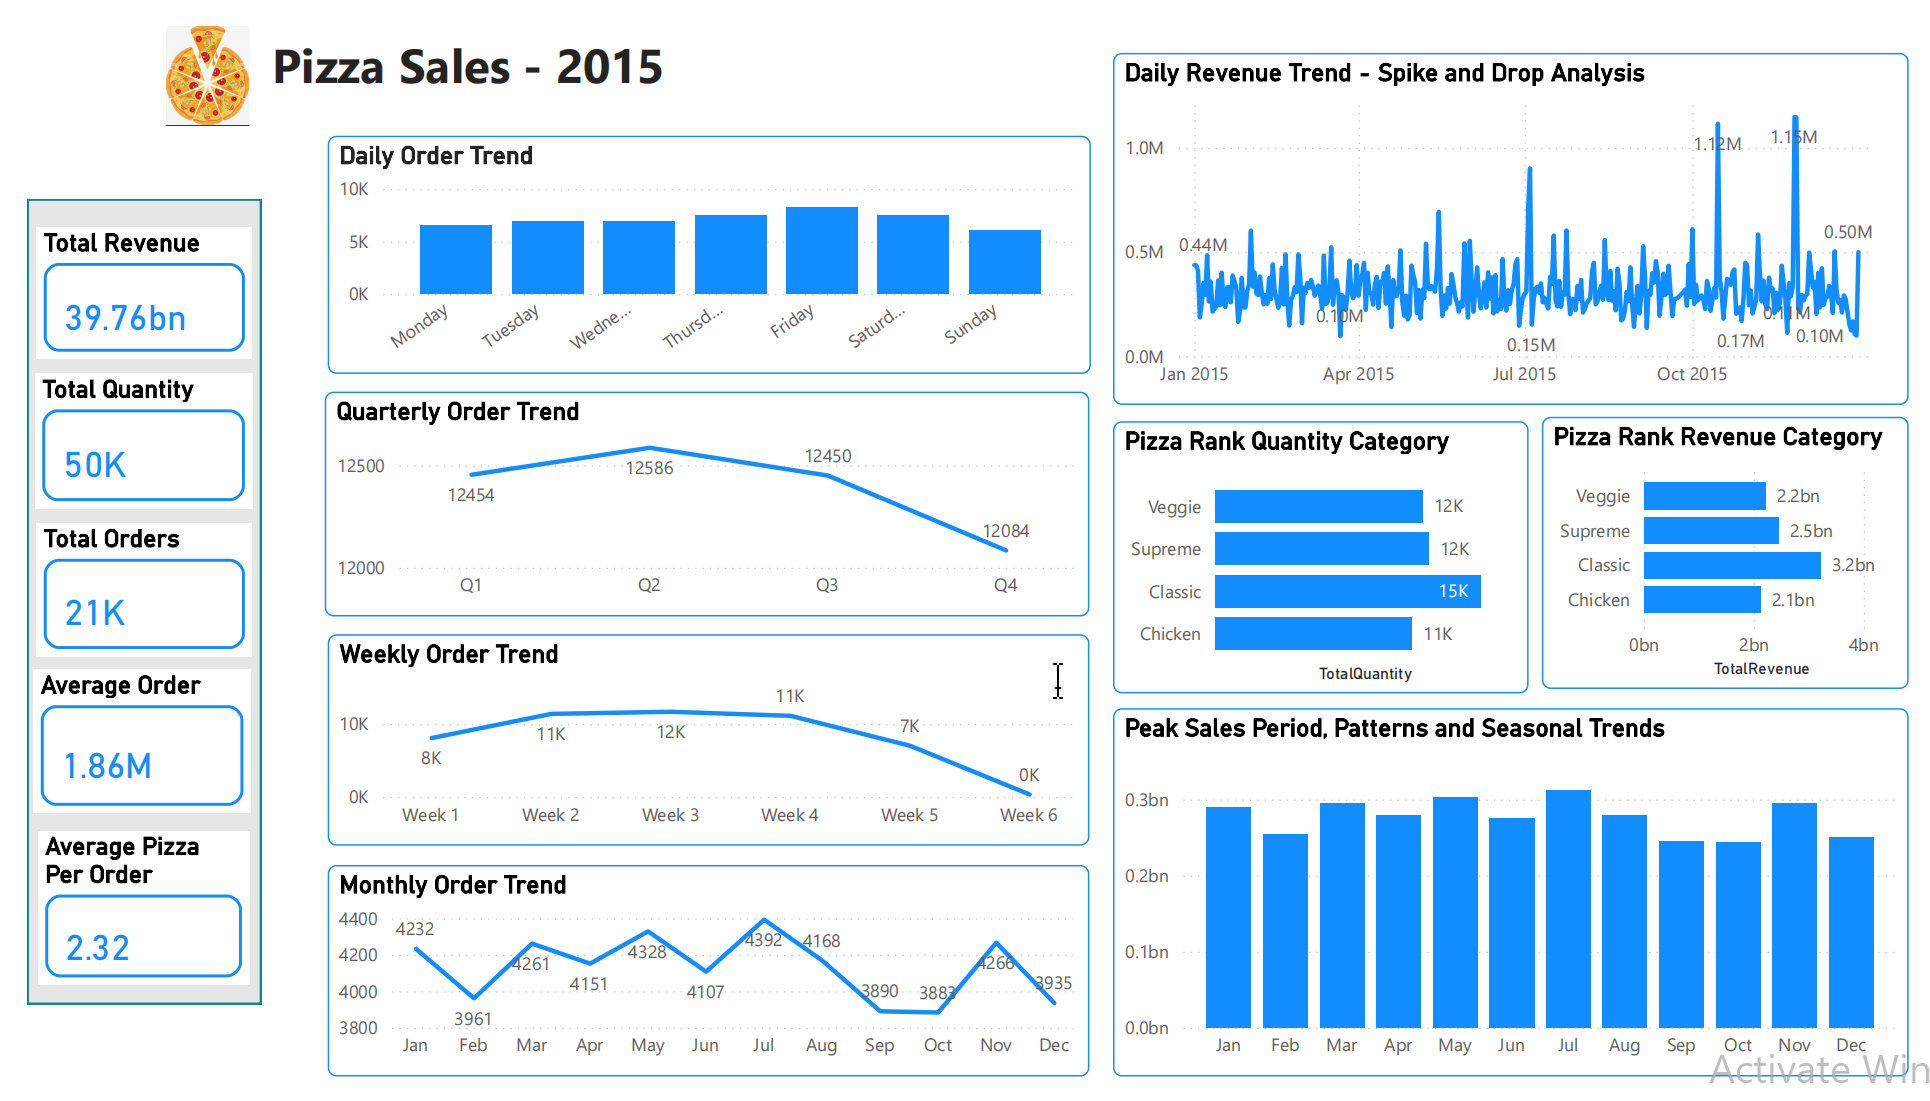

The page's visual inventory and layout, read from the dashboard file:
{"tool":"powerbi","page":{"name":"SalesTrend&Product_Dashboard","canvas":[1280,720],"ordinal":1},"visuals":[{"type":"shape","box":[0,126.5,157.8,544.6],"z":0},{"type":"cardVisual","title":"Total Revenue","fields":{"Data":["Order_Details.TotalRevenue"]},"box":[6,145.8,145.8,89.2],"z":1000},{"type":"cardVisual","title":"Total Quantity","fields":{"Data":["Order_Details.TotalQuantity"]},"box":[4.8,244.9,147,91.6],"z":2000},{"type":"cardVisual","title":"Total Orders","fields":{"Data":["Orders.TotalOrders"]},"box":[6,346.4,145.8,89.2],"z":3000},{"type":"cardVisual","title":"Average Order","fields":{"Data":["Order_Details.AvgOrdersValue"]},"box":[3.6,445.5,147,96.4],"z":4000},{"type":"cardVisual","title":"Average Pizza Per Order","fields":{"Data":["Order_Details.AvgPizzasPerOrders"]},"box":[6.8,554.1,143.2,104.1],"z":5000},{"type":"lineChart","title":"Quarterly Order Trend","fields":{"Y":["Order_Details.TotalQuantity"],"Category":["DimDateTime.Quarter"]},"box":[201.4,257.2,516.2,151.4],"z":6000},{"type":"clusteredColumnChart","title":"Peak Sales Period, Patterns and Seasonal Trends","fields":{"Y":["Order_Details.TotalRevenue"],"Category":["DimDateTime.MonthName"]},"box":[733.8,471.4,537.8,248.6],"z":7000},{"type":"lineChart","title":"Daily Revenue Trend - Spike and Drop Analysis","fields":{"Category":["Orders.date.Variation.Date Hierarchy.Day"],"Y":["Order_Details.TotalRevenue"]},"box":[733.8,28.4,537.8,237.8],"z":8000},{"type":"clusteredBarChart","title":"Pizza Rank Quantity Category","fields":{"Category":["Pizza_Types.category"],"Y":["Order_Details.TotalQuantity"]},"box":[733.8,277,281.1,183.8],"z":9000},{"type":"clusteredBarChart","title":"Pizza Rank Revenue Category","fields":{"Category":["Pizza_Types.category"],"Y":["Order_Details.TotalRevenue"]},"box":[1024.3,274.3,247.3,183.8],"z":10000},{"type":"textbox","box":[0,7.8,597.4,70.1],"z":11000},{"type":"image","box":[88.3,5.2,70.1,76.6],"z":12000},{"type":"lineChart","title":"Monthly Order Trend","fields":{"Y":["Order_Details.TotalQuantity"],"Category":["DimDateTime.MonthName"]},"box":[202.7,576.8,514.9,143.2],"z":13000},{"type":"lineChart","title":"Weekly Order Trend","fields":{"Y":["Order_Details.TotalQuantity"],"Category":["DimDateTime.week_name"]},"box":[203,421.2,515,143],"z":14000},{"type":"columnChart","title":"Daily Order Trend","fields":{"Y":["Order_Details.TotalQuantity"],"Category":["DimDateTime.DayName"]},"box":[202.7,83.8,516.2,160.8],"z":15000}]}

Visuals, with their boxes on the page's 1280x720 design canvas (x1, y1, x2, y2). These are canvas units, not pixel positions in the 1930x1101 screenshot, which may show the page scaled, cropped or inside an application window:
shape: 0:126:158:671
"Total Revenue" cardVisual: 6:146:152:235
"Total Quantity" cardVisual: 5:245:152:336
"Total Orders" cardVisual: 6:346:152:436
"Average Order" cardVisual: 4:446:151:542
"Average Pizza Per Order" cardVisual: 7:554:150:658
"Quarterly Order Trend" lineChart: 201:257:718:409
"Peak Sales Period, Patterns and Seasonal Trends" clusteredColumnChart: 734:471:1272:720
"Daily Revenue Trend - Spike and Drop Analysis" lineChart: 734:28:1272:266
"Pizza Rank Quantity Category" clusteredBarChart: 734:277:1015:461
"Pizza Rank Revenue Category" clusteredBarChart: 1024:274:1272:458
textbox: 0:8:597:78
image: 88:5:158:82
"Monthly Order Trend" lineChart: 203:577:718:720
"Weekly Order Trend" lineChart: 203:421:718:564
"Daily Order Trend" columnChart: 203:84:719:245
